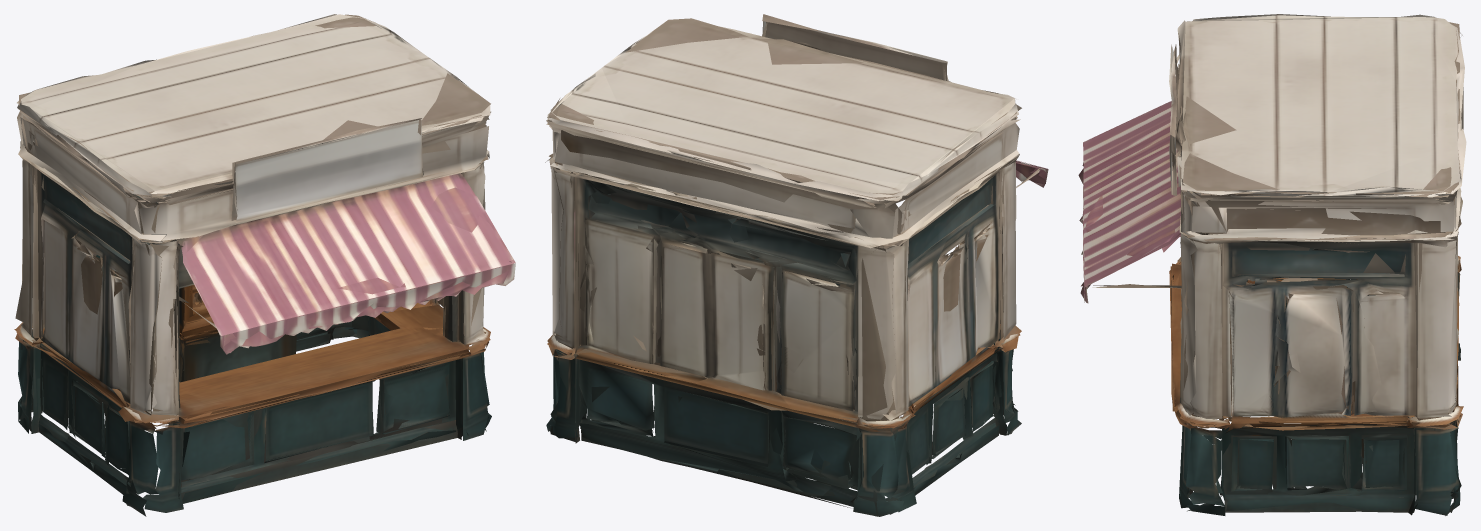
File: unified--detail--candy.glb
3 renders of one model, left to right at view 1: azimuth 30°, elevation 25°; view 2: azimuth 150°, elevation 25°; view 3: azimuth 270°, elevation 25°, orthographic.
Parts seen in each view (by area): view 1: candy-1; view 2: candy-1; view 3: candy-1.
Boxes of the visible parts, left/top/right/bottom form: candy-1: left=14, top=14, right=515, bottom=516; candy-1: left=545, top=14, right=1048, bottom=516; candy-1: left=1078, top=14, right=1466, bottom=515.
Bounding box in the file's own units: 3.16 × 2.82 × 2.88.
1 material, 1 textured.
